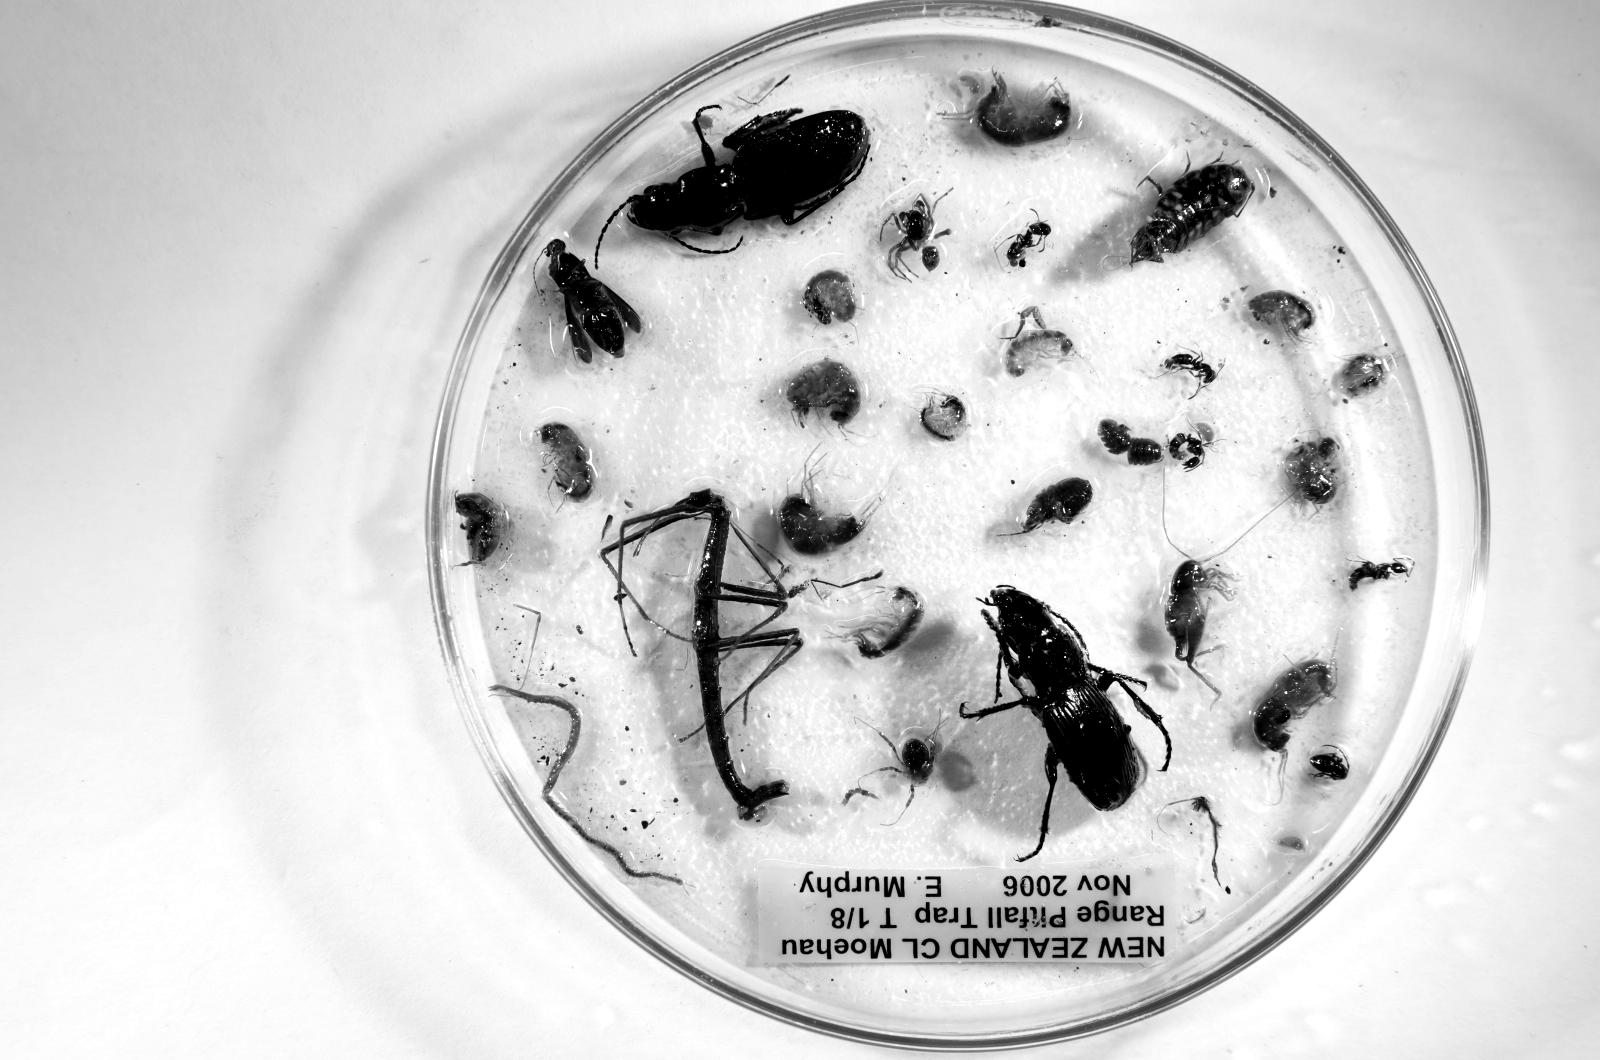amphipoda: (1251, 658, 1337, 756), (973, 71, 1070, 147), (831, 586, 924, 659), (785, 357, 861, 427), (778, 495, 863, 555), (537, 422, 596, 503), (1004, 328, 1080, 377), (1248, 290, 1316, 343), (803, 270, 857, 325), (1333, 354, 1388, 401), (920, 394, 967, 441)
araneae: (881, 194, 951, 282)
carabidae: (959, 586, 1172, 861), (614, 109, 869, 254)
chilopoda: (490, 685, 686, 887)
coleoptera: (1309, 746, 1349, 781)
formicidae: (1159, 353, 1216, 395), (1004, 220, 1051, 267), (1348, 556, 1413, 590), (1167, 433, 1210, 470)
hymenoptera: (545, 239, 642, 363)
isopoda: (1129, 163, 1254, 265), (455, 493, 504, 563)
opiliones: (877, 729, 939, 814), (1021, 477, 1093, 532)
orthoptera: (1164, 558, 1237, 703)
phasmatodea: (601, 490, 804, 821)
